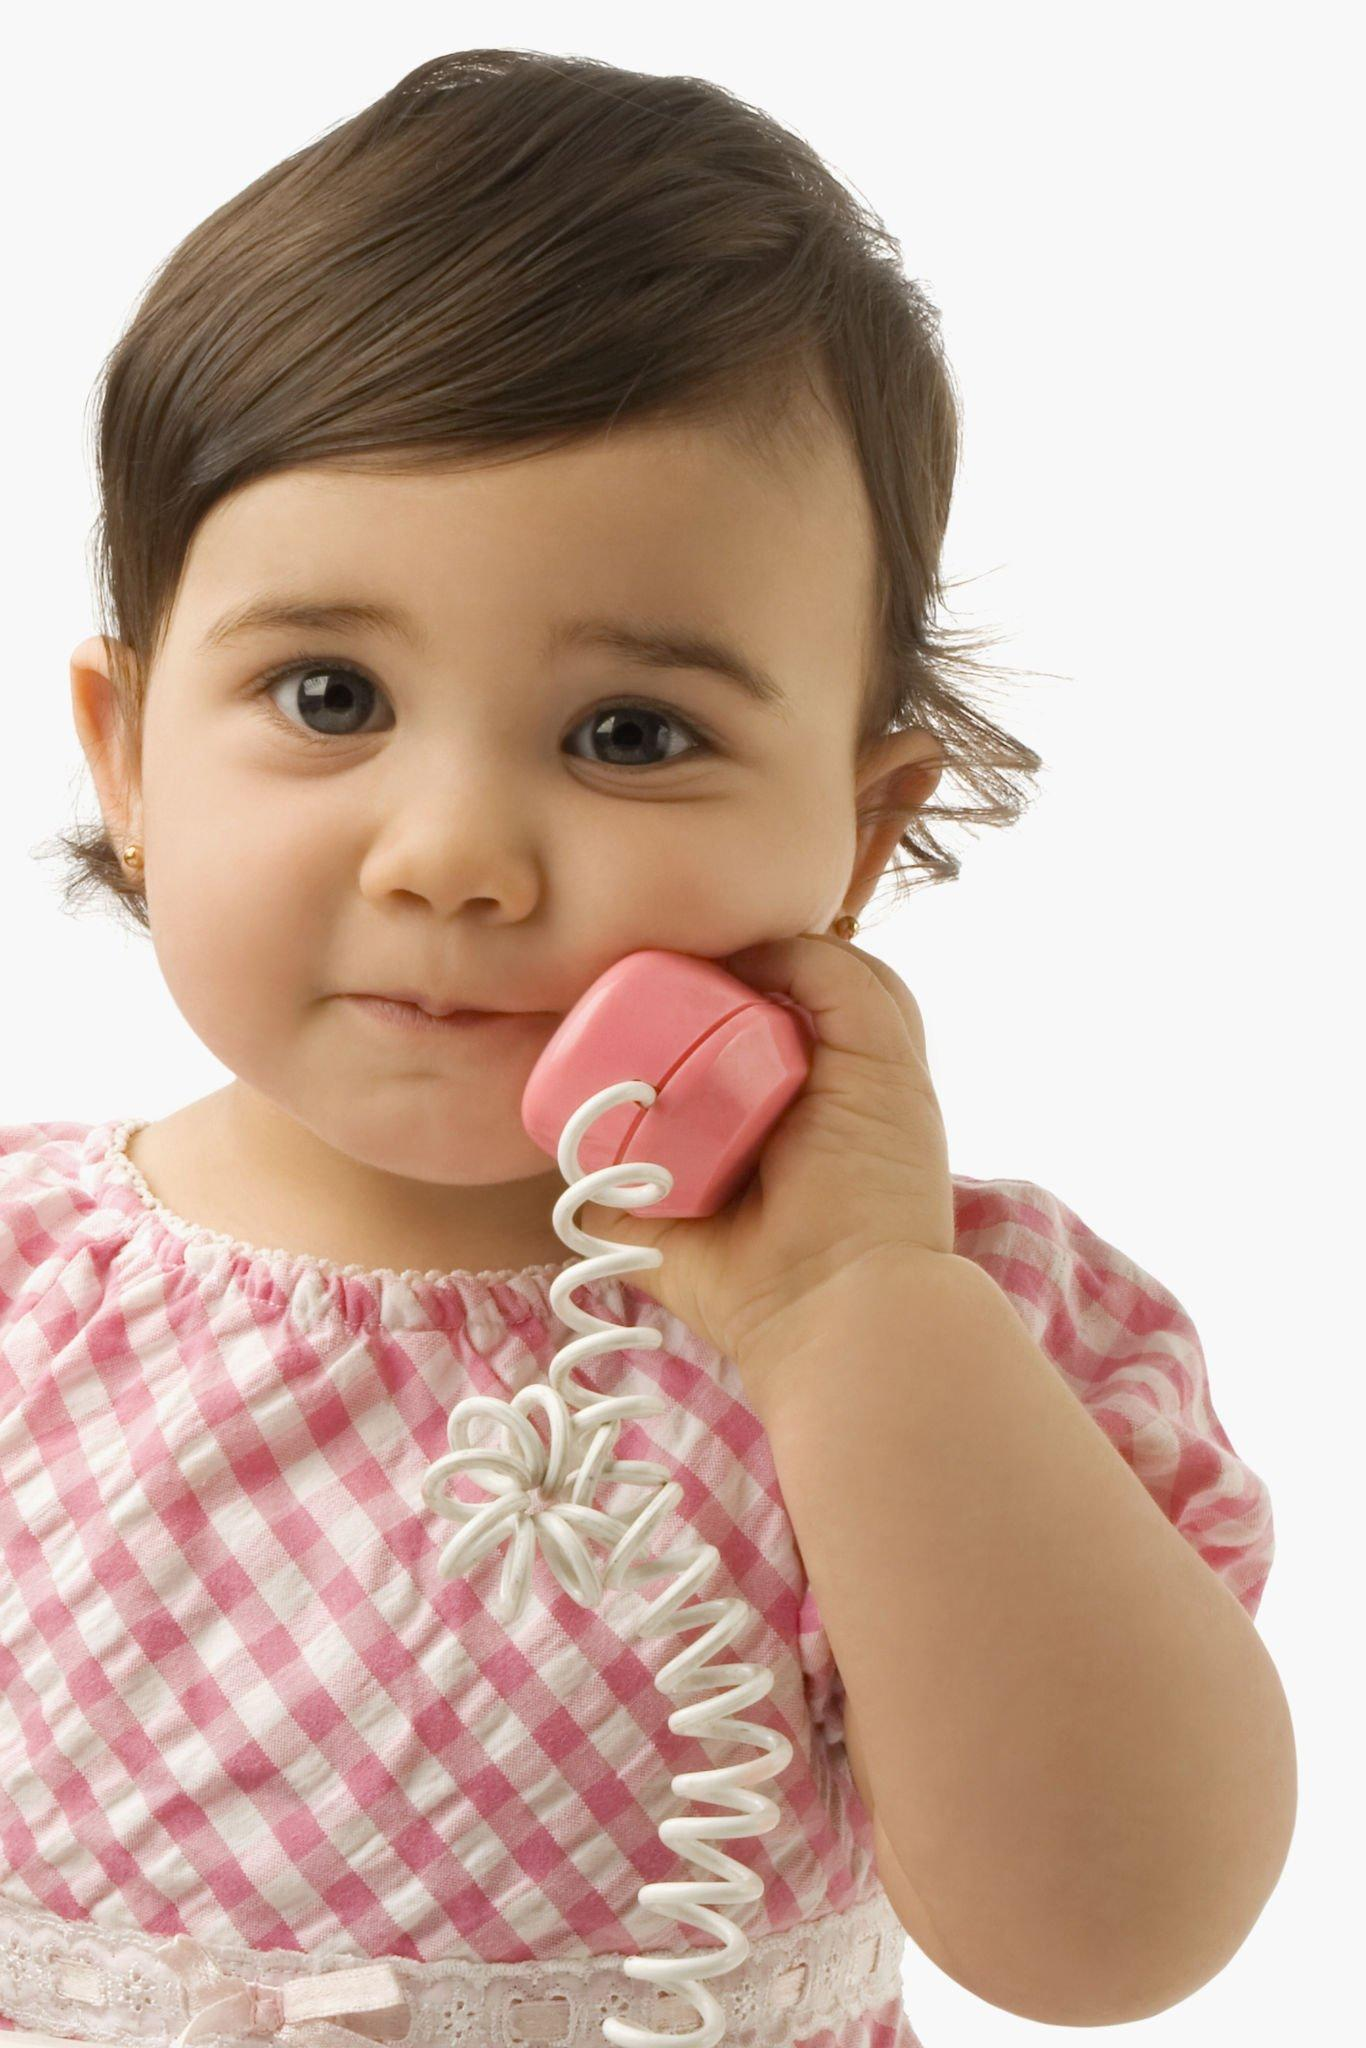Healthy: (73, 280, 802, 1205)
